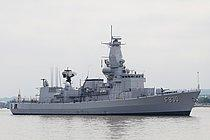MIL_Ship: (8, 35, 202, 117)
